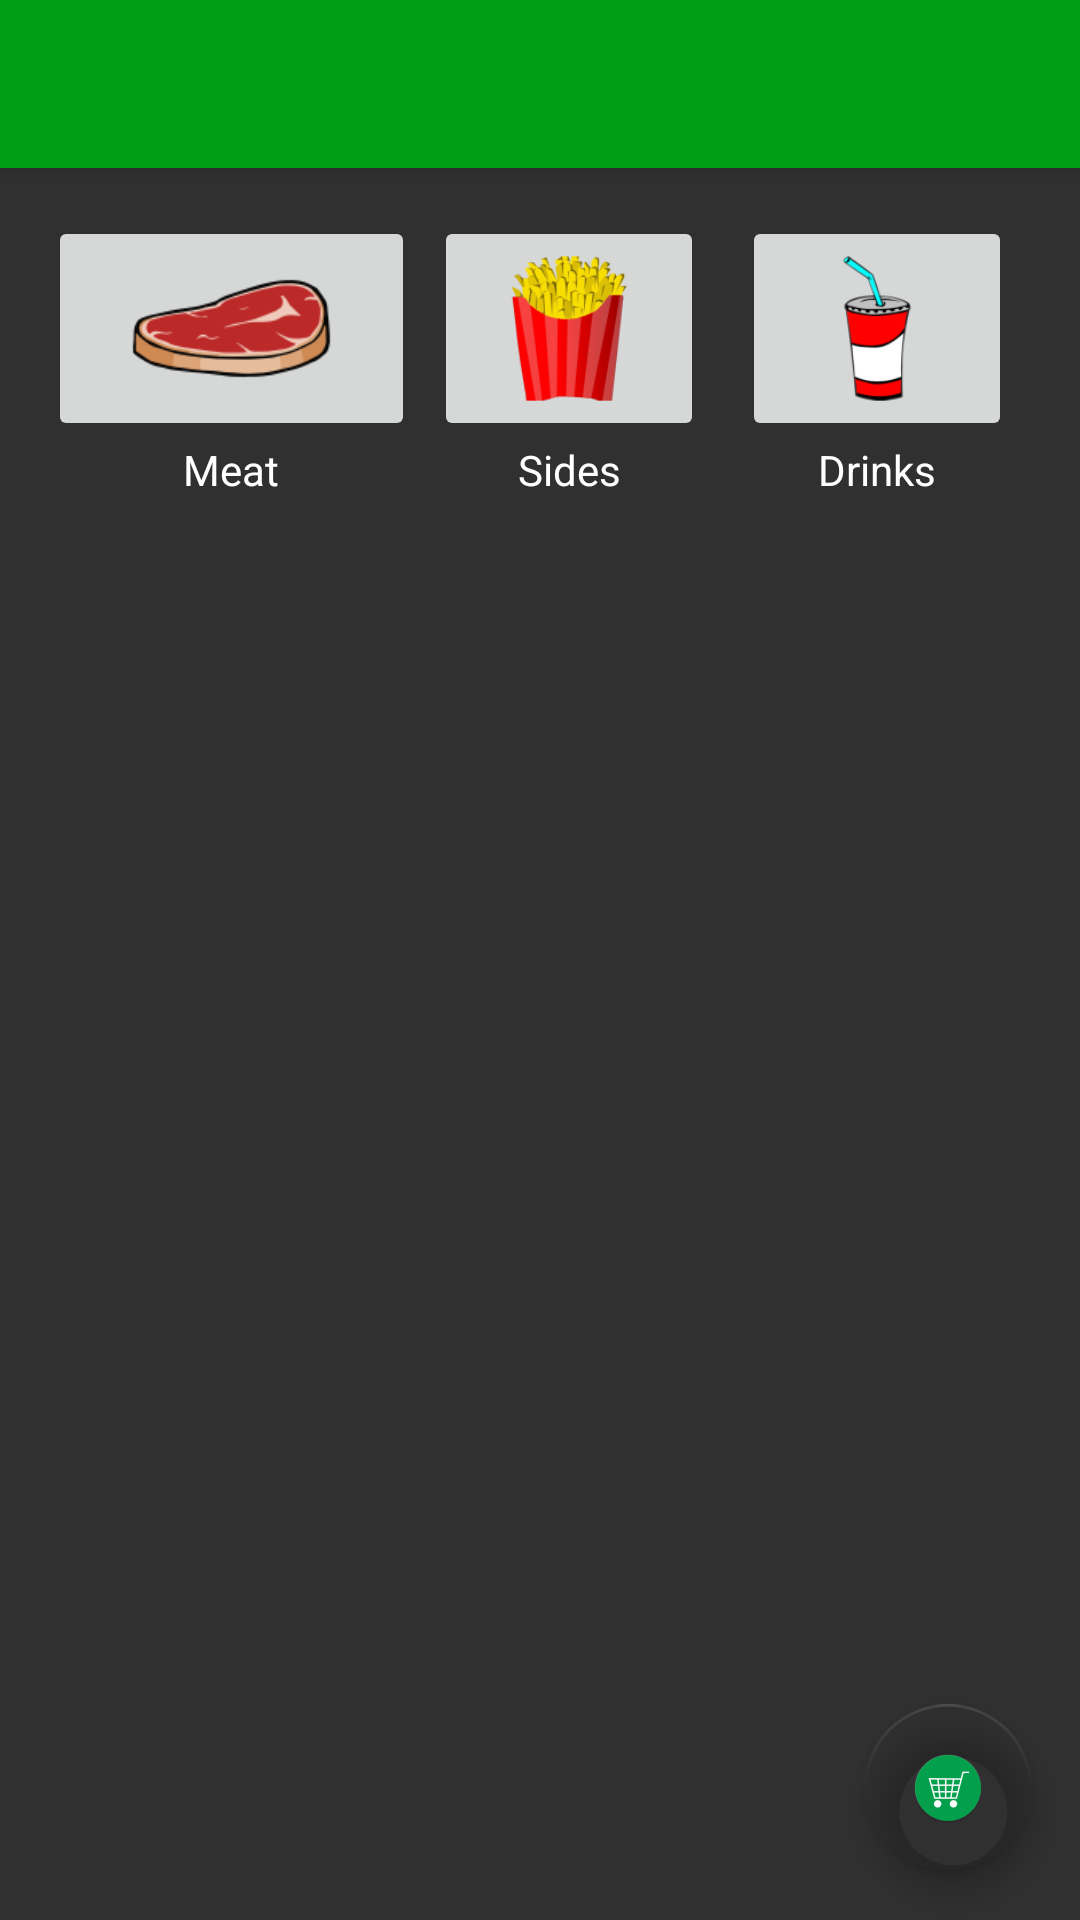

Named icons in this screenshot (1080 x 1920) and their bounding boxes, (x1,y1,x2,y2):
fries: (446,234,692,423)
shopping cart: (915,1704,981,1821)
soda cup: (754,234,1000,423)
